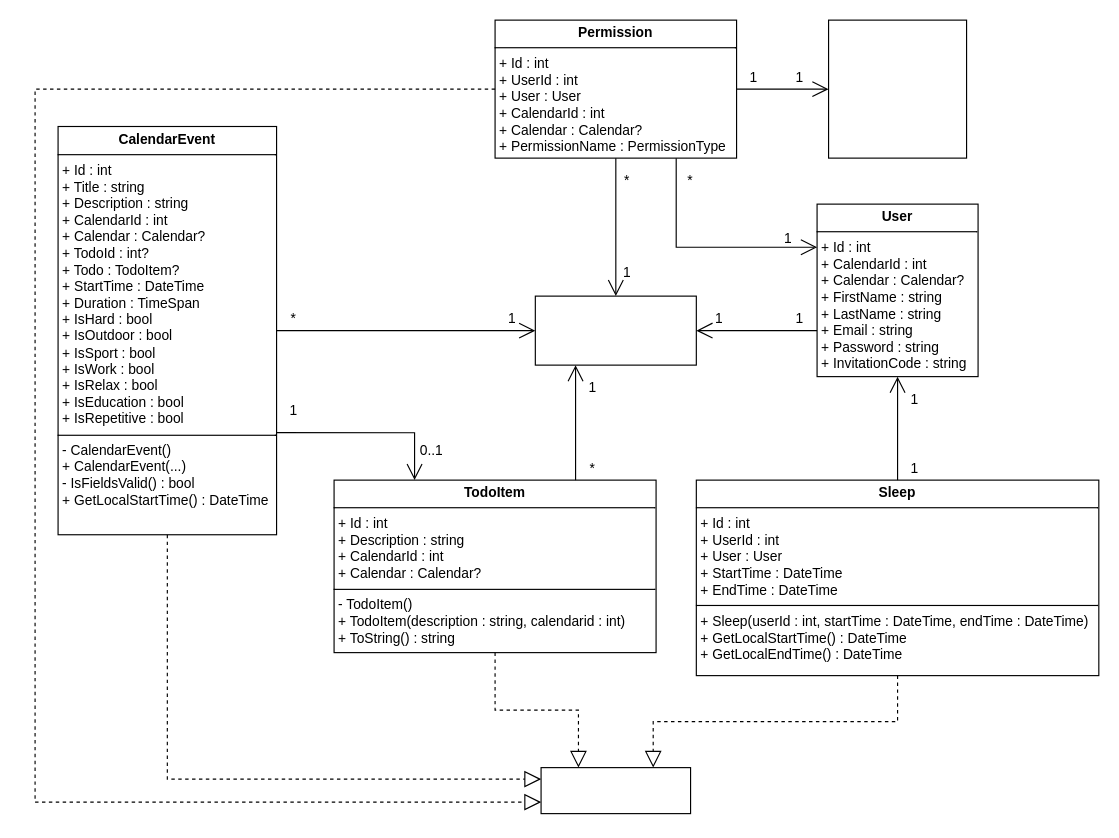
The diagram is 1119 pixels wide and 838 high, and some of its shapes have lost their labels. The shapes that lost their labels are listed below. From the top down, each one's centre as x and y in pixels, then its label:
At pixel 897 88: "<<enumeration>> PermissionType Blocked ReadOnly Edit Admin".
At pixel 615 330: "Calendar + Id : int".
At pixel 615 790: "<<Interface>> ICalendarRecord".
